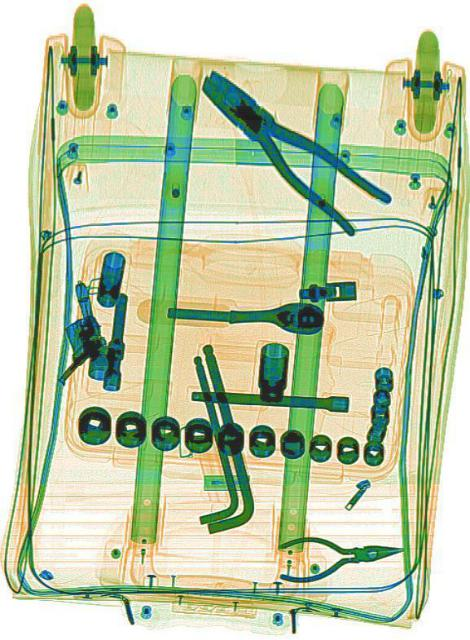Gun: (36, 276, 109, 382)
Pliers: (189, 45, 391, 248), (275, 527, 404, 583)
